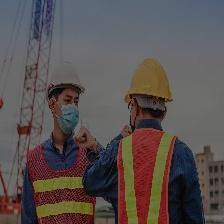Person: (111, 61, 203, 222), (23, 63, 98, 224)
helmet: (129, 59, 173, 101), (47, 61, 86, 93)
vest: (27, 139, 98, 224), (119, 129, 178, 224)
